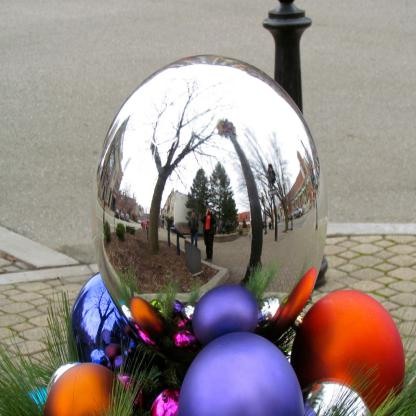Ball: (94, 53, 326, 345), (296, 290, 402, 416), (180, 334, 305, 416), (71, 270, 145, 373)
